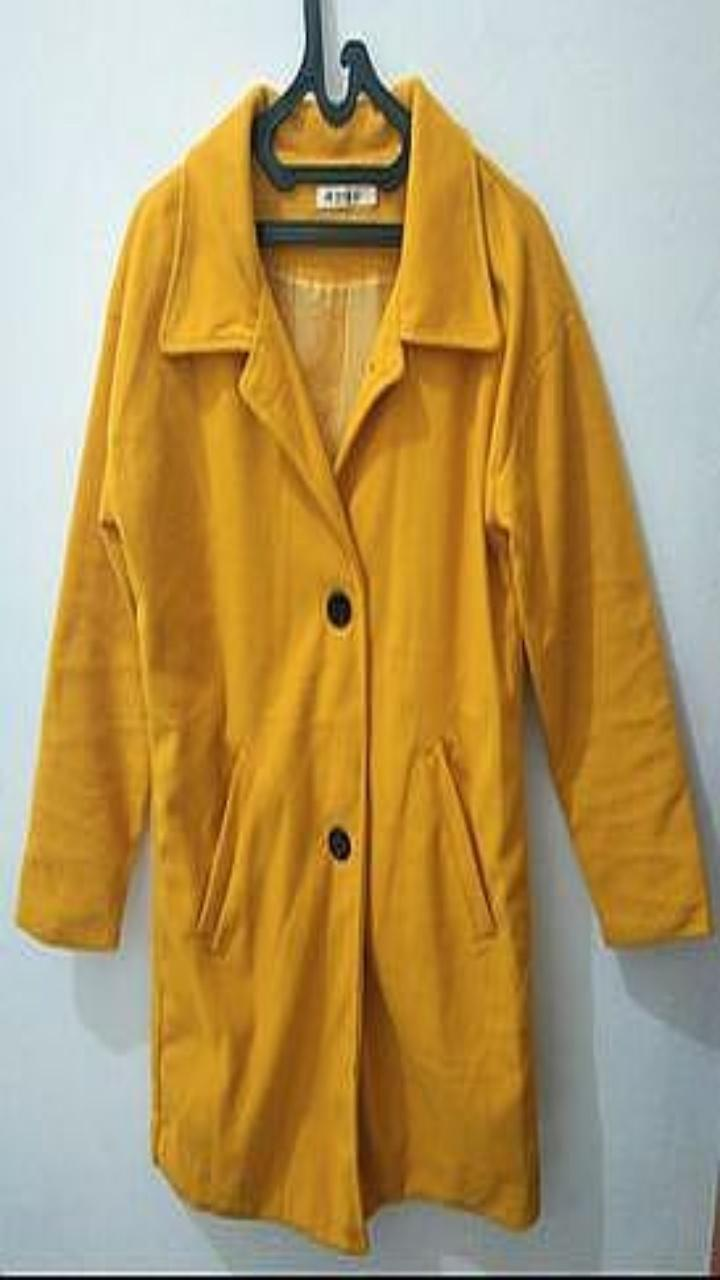Coat: (16, 76, 712, 1252)
